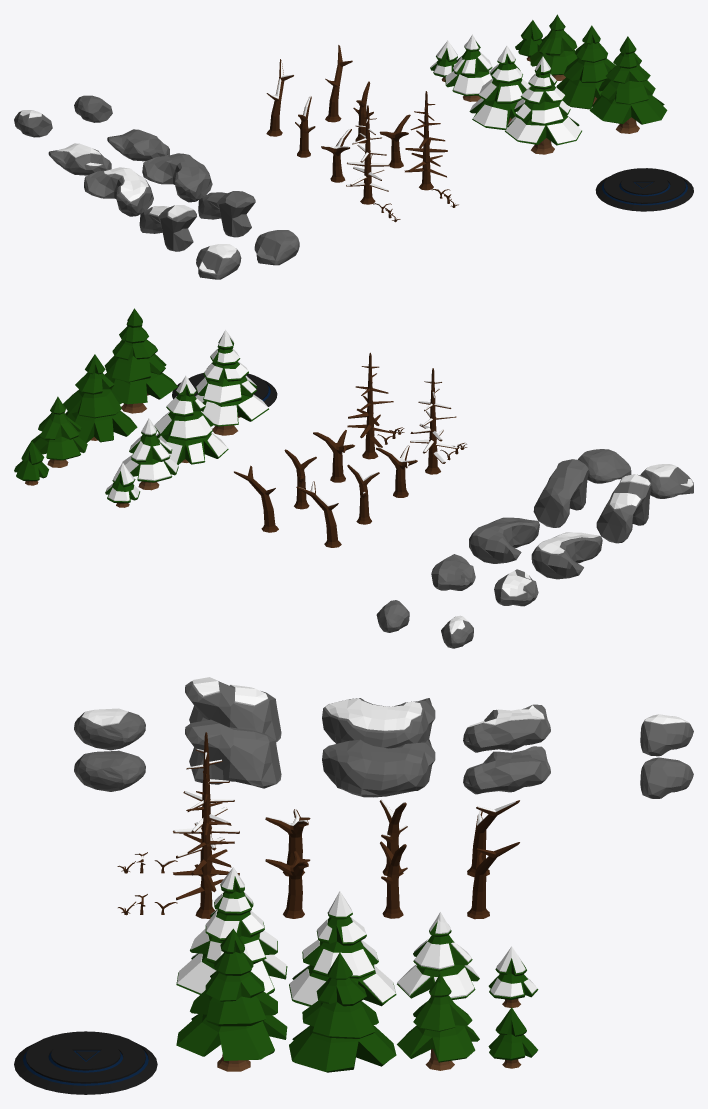
The picture shows the model from 3 angles, top to bottom: view 1: azimuth 30°, elevation 25°; view 2: azimuth 150°, elevation 25°; view 3: azimuth 270°, elevation 25°; orthographic projection. The views are drawn at different scales.
Parts seen in each view (by area): view 1: polySurface17, CubeFBXASC046013 polySurface88, CubeFBXASC046013 polySurface15, polySurface21, polySurface5 CubeFBXASC046013, polySurface3, CubeFBXASC046013 polySurface70, polySurface14, CubeFBXASC046013 polySurface71, polySurface62, CubeFBXASC046013 polySurface84, CubeFBXASC046013 polySurface69 (+15 smaller); view 2: polySurface17, CubeFBXASC046013 polySurface88, polySurface21, polySurface5 CubeFBXASC046013, polySurface14, CubeFBXASC046013 polySurface71, polySurface3, CubeFBXASC046013 polySurface70, polySurface62, CubeFBXASC046013 polySurface84, polySurface96, polySurface8 (+15 smaller); view 3: CubeFBXASC046013 polySurface88, CubeFBXASC046013 polySurface15, polySurface5 CubeFBXASC046013, polySurface17, polySurface21, CubeFBXASC046013 polySurface70, CubeFBXASC046013 polySurface71, polySurface3, CubeFBXASC046013 polySurface84, polySurface14, polySurface62, CubeFBXASC046013 polySurface69 (+15 smaller).
Boxes of the visible parts, box(x1,y1,x2,y2) form: polySurface17: box(505, 56, 581, 154); CubeFBXASC046013 polySurface88: box(589, 36, 667, 133); CubeFBXASC046013 polySurface15: box(595, 168, 693, 211); polySurface21: box(469, 45, 530, 130); polySurface5 CubeFBXASC046013: box(556, 25, 615, 109); polySurface3: box(84, 167, 153, 216); CubeFBXASC046013 polySurface70: box(142, 153, 212, 202); polySurface14: box(139, 205, 196, 251); CubeFBXASC046013 polySurface71: box(198, 191, 255, 237); polySurface62: box(445, 34, 492, 101); CubeFBXASC046013 polySurface84: box(530, 14, 577, 80); CubeFBXASC046013 polySurface69: box(107, 129, 169, 161); polySurface17: box(195, 330, 268, 435); CubeFBXASC046013 polySurface88: box(104, 308, 177, 413); polySurface21: box(154, 376, 228, 464); polySurface5 CubeFBXASC046013: box(63, 354, 137, 443); polySurface14: box(596, 474, 651, 543); CubeFBXASC046013 polySurface71: box(533, 459, 588, 527); polySurface3: box(531, 532, 602, 579); CubeFBXASC046013 polySurface70: box(469, 517, 539, 563); polySurface62: box(121, 418, 178, 490); CubeFBXASC046013 polySurface84: box(32, 396, 87, 467); polySurface96: box(410, 368, 458, 474); polySurface8: box(640, 464, 693, 498); CubeFBXASC046013 polySurface88: box(176, 928, 287, 1071); CubeFBXASC046013 polySurface15: box(14, 1031, 157, 1094); polySurface5 CubeFBXASC046013: box(289, 952, 396, 1072); polySurface17: box(176, 867, 287, 994); polySurface21: box(289, 891, 396, 1006); CubeFBXASC046013 polySurface70: box(322, 739, 435, 797); CubeFBXASC046013 polySurface71: box(185, 719, 281, 788); polySurface3: box(322, 698, 435, 748); CubeFBXASC046013 polySurface84: box(397, 973, 479, 1070); polySurface14: box(185, 677, 281, 742); polySurface62: box(397, 912, 479, 999); CubeFBXASC046013 polySurface69: box(463, 746, 550, 794).
Bounding box in the file's own units: 24.02 × 5.03 × 18.89.
1 material, 1 textured.
